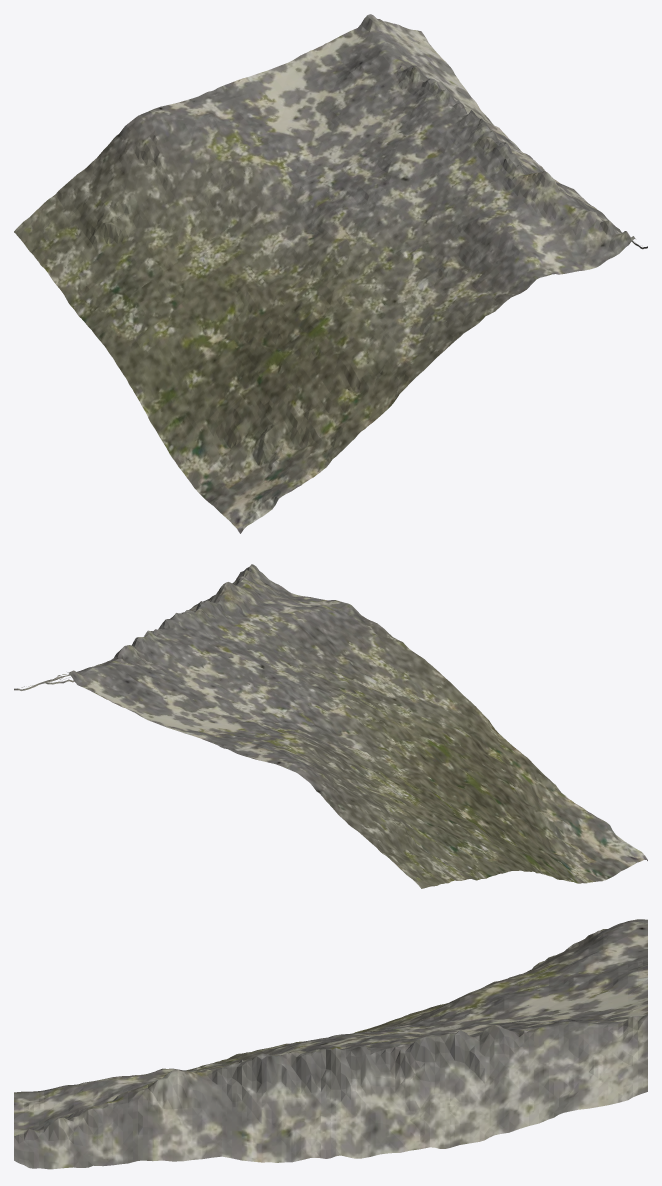
The picture shows the model from 3 angles, top to bottom: view 1: azimuth 30°, elevation 25°; view 2: azimuth 150°, elevation 25°; view 3: azimuth 270°, elevation 25°; orthographic projection. The views are drawn at different scales.
Size of the model in its own units: 250 by 158 by 241.
1 material, 1 textured.
